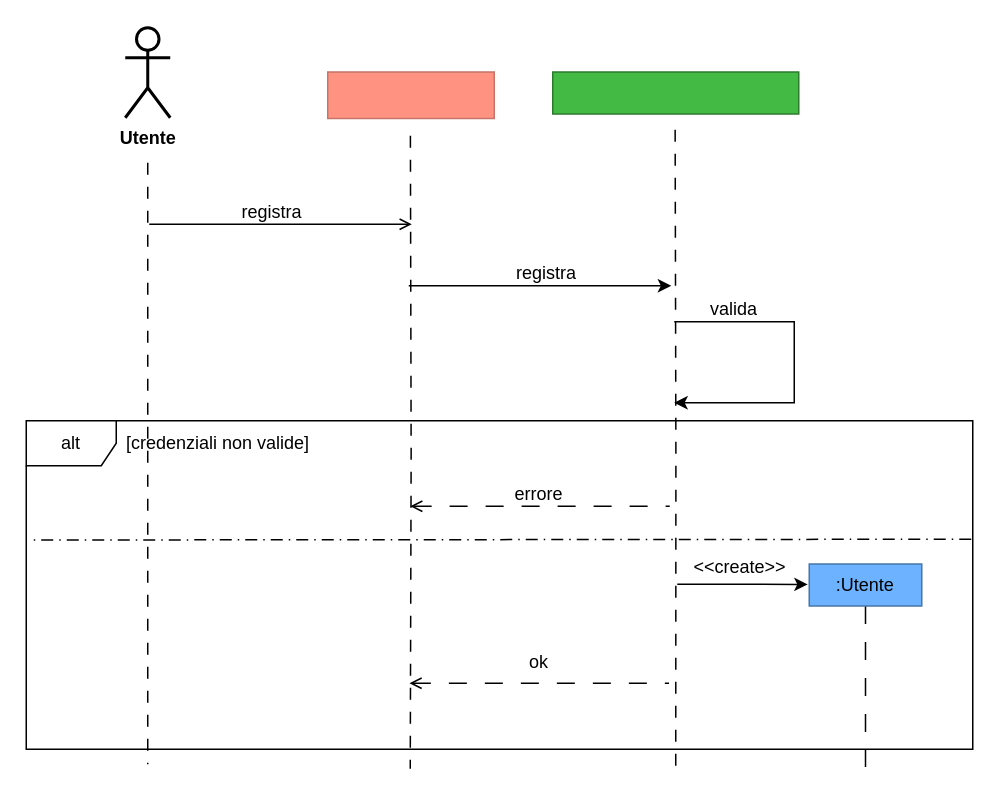
This 999x804 diagram has some shape labels left out. The centre of each missing label's shape, as x and y in pixels:
:ControllerRegistrazione: the point at 675,92
:ViewRegistrazione: the point at 410,94
